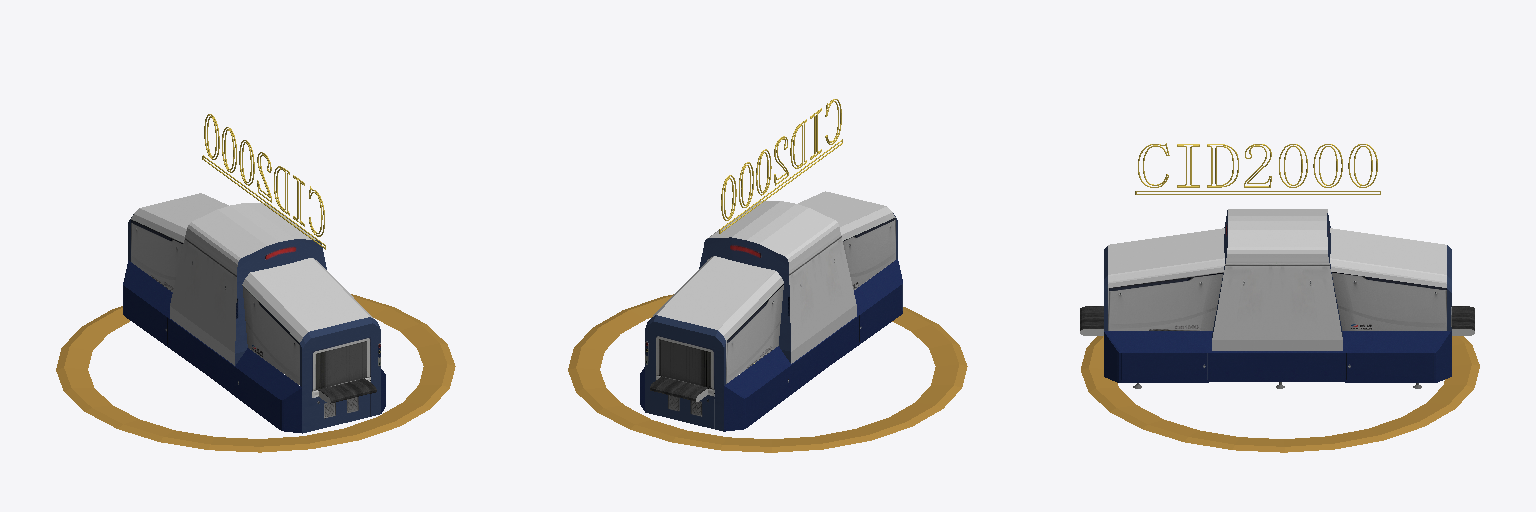
The picture shows the model from 3 angles: view 1: azimuth 30°, elevation 25°; view 2: azimuth 150°, elevation 25°; view 3: azimuth 270°, elevation 25°; orthographic projection.
Visible parts, largest first — view 1: shell, statusLamp, Text001; view 2: shell, statusLamp, Text001; view 3: shell, statusLamp, Text001.
Part boxes in pixels (bbox=[...]): shell: bbox=[123, 193, 385, 433]; statusLamp: bbox=[56, 294, 455, 452]; Text001: bbox=[202, 114, 325, 249]; shell: bbox=[640, 191, 902, 431]; statusLamp: bbox=[568, 294, 967, 452]; Text001: bbox=[719, 99, 842, 233]; shell: bbox=[1080, 209, 1474, 382]; statusLamp: bbox=[1081, 336, 1479, 452]; Text001: bbox=[1135, 143, 1380, 194].
Size of the model in its own units: 572 by 355 by 573.
Materials: 6 (2 with a texture image).